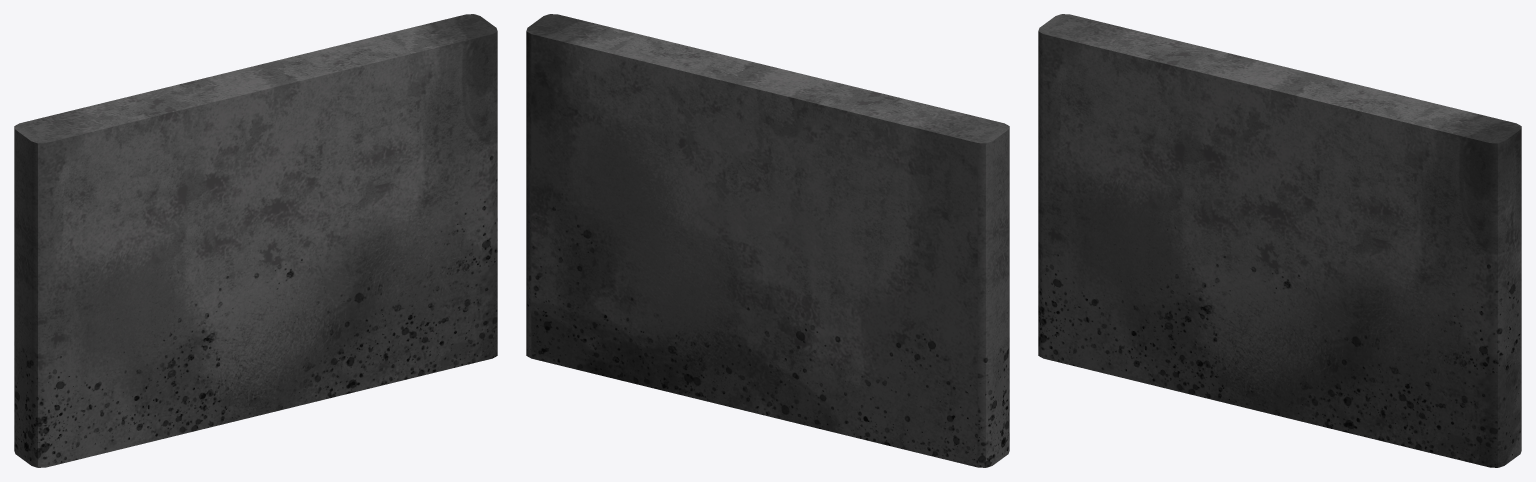
File: MR_Wall_L_Tex.fbx
The picture shows the model from 3 angles, left to right: view 1: azimuth 30°, elevation 25°; view 2: azimuth 150°, elevation 25°; view 3: azimuth 330°, elevation 25°; orthographic projection.
Parts seen in each view (by area): view 1: pasted__pasted__M_Wall_Single; view 2: pasted__pasted__M_Wall_Single; view 3: pasted__pasted__M_Wall_Single.
Part boxes in pixels (x1,y1,x2,y2): pasted__pasted__M_Wall_Single: (14,14,497,467); pasted__pasted__M_Wall_Single: (526,14,1009,467); pasted__pasted__M_Wall_Single: (1038,14,1521,467).
Size of the model in its own units: 150 by 100 by 15.
Materials: 1 (1 with a texture image).
